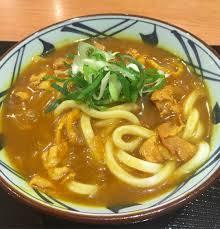curry: (1, 11, 220, 224)
